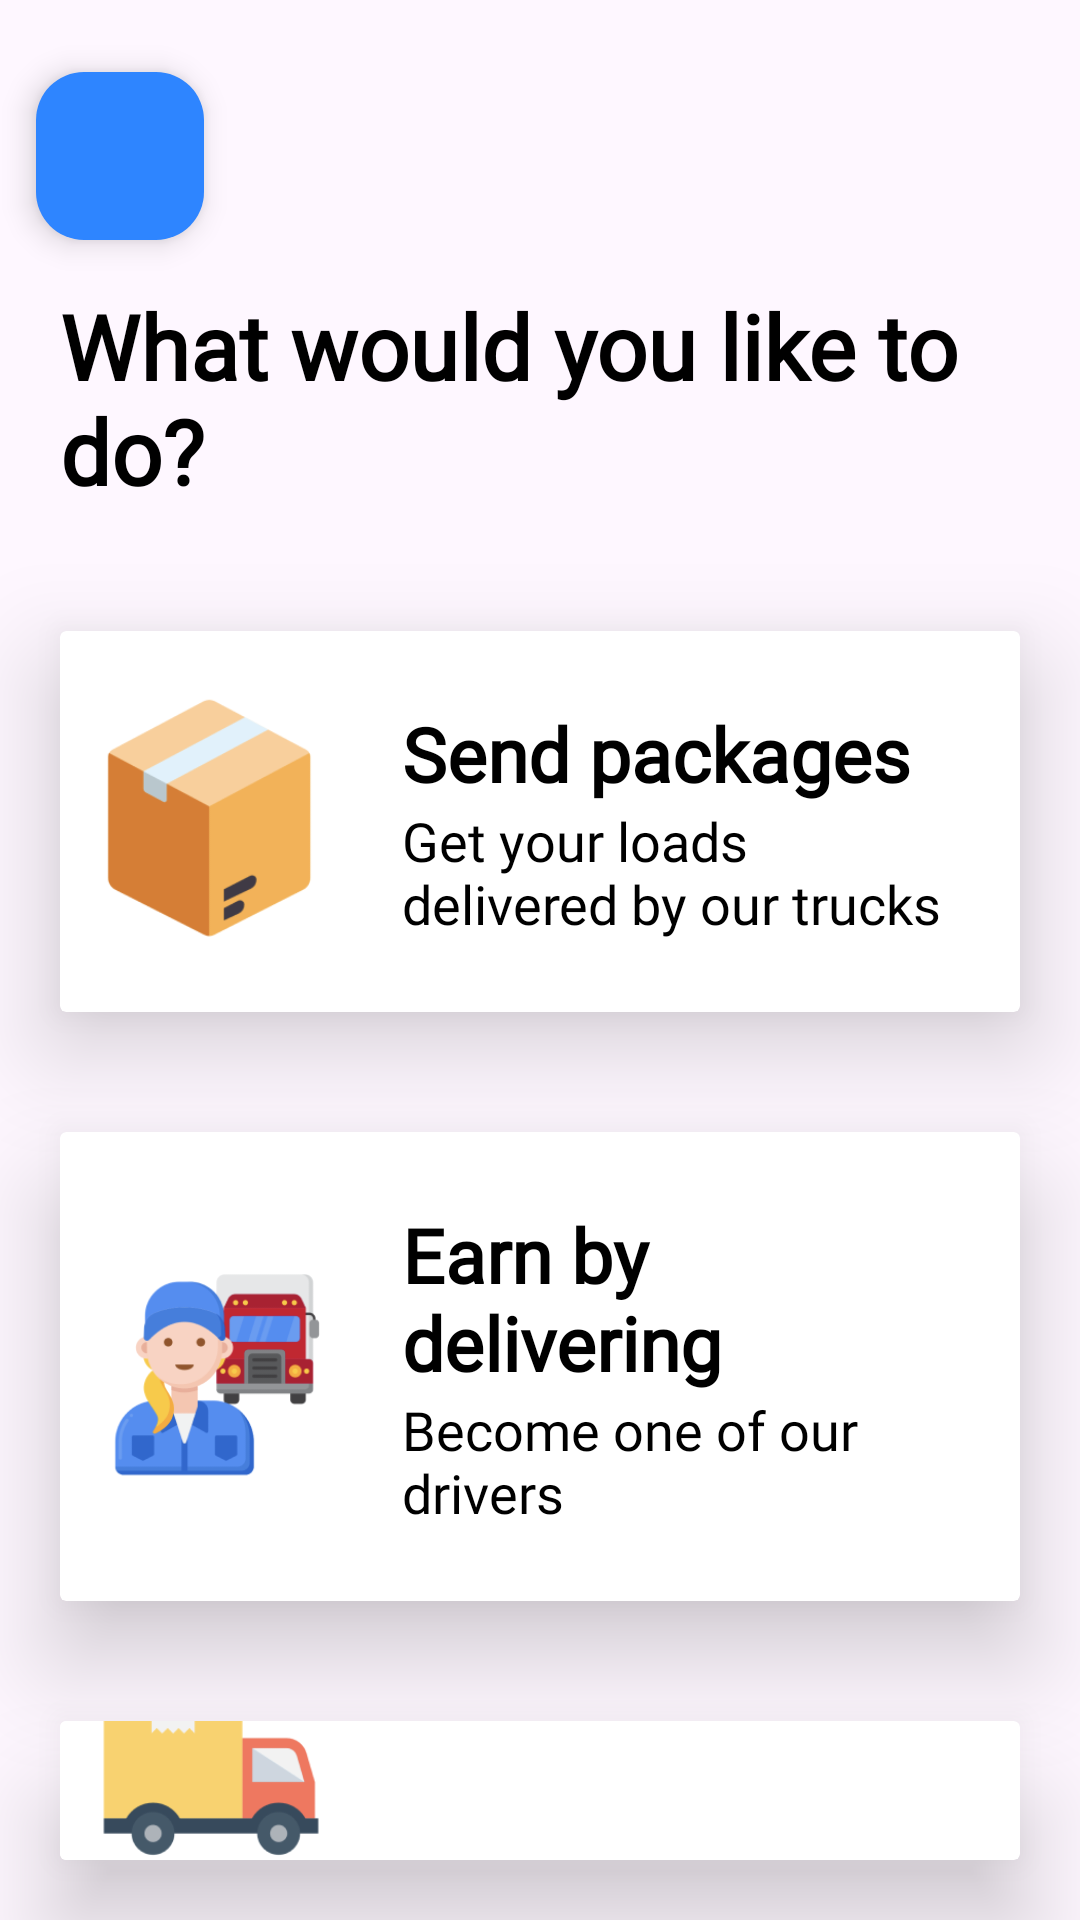

Screen size 1080 x 1920. Icon name, then its center in pixels as point (x, y):
box: point (209, 818)
person: point (217, 1375)
